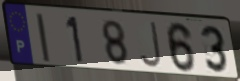1: (65, 15, 86, 66)
3: (199, 24, 230, 75)
6: (165, 21, 198, 74)
8: (99, 19, 131, 67)
I: (34, 12, 52, 64)
J: (137, 20, 163, 70)
